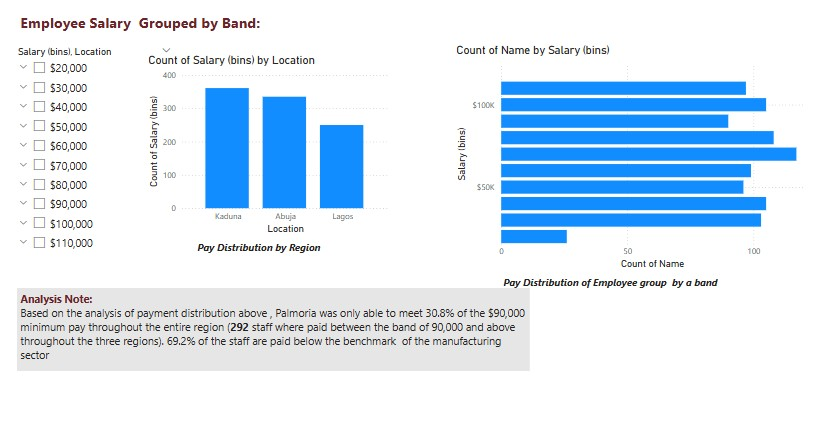

The page's visual inventory and layout, read from the dashboard file:
{"tool":"powerbi","page":{"name":"Page 4","canvas":[1280,720],"ordinal":3},"visuals":[{"type":"slicer","fields":{"Values":["Palmoria Group emp-data2 (2).Salary (bins)","Palmoria Group emp-data2 (2).Location"]},"box":[26.9,85.1,253.9,422.7],"z":0},{"type":"textbox","box":[38.8,34.4,395.9,50.8],"z":1000},{"type":"clusteredColumnChart","fields":{"Category":["Palmoria Group emp-data2 (2).Location"],"Y":["Palmoria Group emp-data2 (2).Salary (bins)"]},"box":[230,100.1,369,274.9],"z":2000},{"type":"clusteredBarChart","fields":{"Category":["Palmoria Group emp-data2 (2).Salary (bins)"],"Y":["Palmoria Group emp-data2 (2).Name"]},"box":[690.1,85.1,539.3,342.1],"z":3000},{"type":"textbox","box":[760.3,427.2,357,47.8],"z":4000},{"type":"textbox","box":[303.2,374.9,203.2,34.4],"z":5000},{"type":"textbox","box":[38.8,451.1,766.3,124],"z":6000}]}

Visuals, with their boxes on the page's 1280x720 design canvas (x1, y1, x2, y2). These are canvas units, not pixel positions in the 836x421 screenshot, which may show the page scaled, cropped or inside an application window:
slicer - Palmoria Group emp-data2 (2).Salary (bins) x Palmoria Group emp-data2 (2).Location: [27, 85, 281, 508]
textbox: [39, 34, 435, 85]
clusteredColumnChart - Palmoria Group emp-data2 (2).Location x Palmoria Group emp-data2 (2).Salary (bins): [230, 100, 599, 375]
clusteredBarChart - Palmoria Group emp-data2 (2).Salary (bins) x Palmoria Group emp-data2 (2).Name: [690, 85, 1229, 427]
textbox: [760, 427, 1117, 475]
textbox: [303, 375, 506, 409]
textbox: [39, 451, 805, 575]
